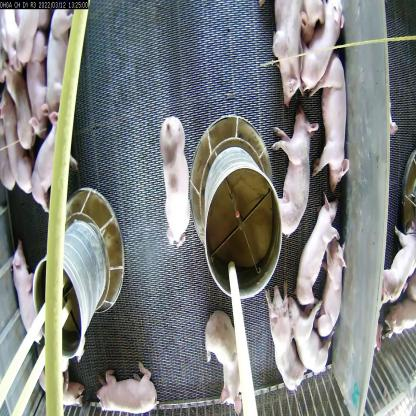Pig: (24, 111, 83, 204), (274, 110, 316, 240), (314, 62, 358, 184), (265, 278, 307, 392), (294, 193, 336, 305), (209, 304, 246, 416), (43, 3, 80, 114), (291, 296, 339, 381), (298, 0, 340, 96), (270, 2, 305, 116), (10, 226, 41, 348), (162, 120, 192, 242), (98, 357, 160, 415), (316, 240, 347, 344), (18, 27, 51, 123)
